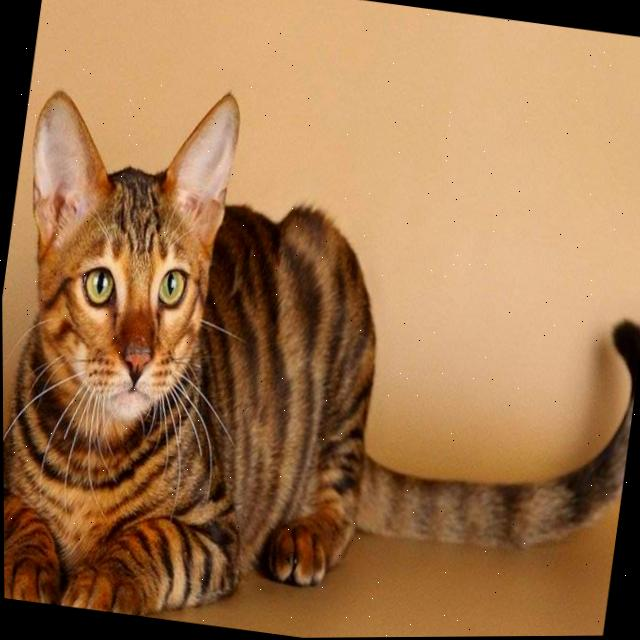Toyger: (0, 51, 640, 640)
